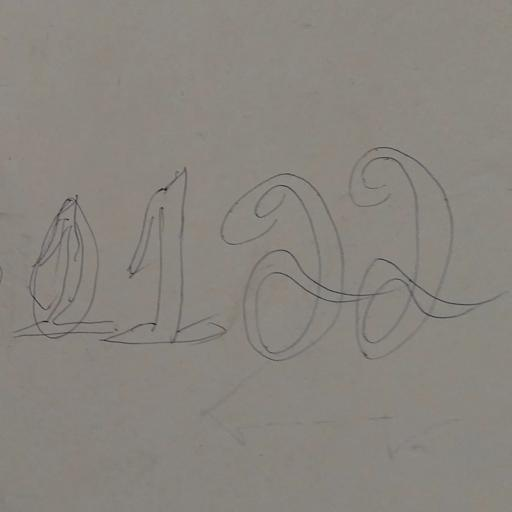stain: (5, 154, 512, 366), (185, 351, 473, 471)
